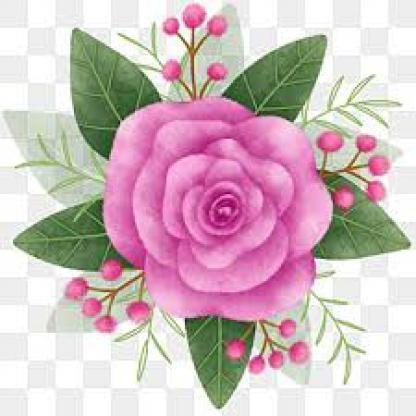Rose-Mawar: (95, 90, 336, 332)
